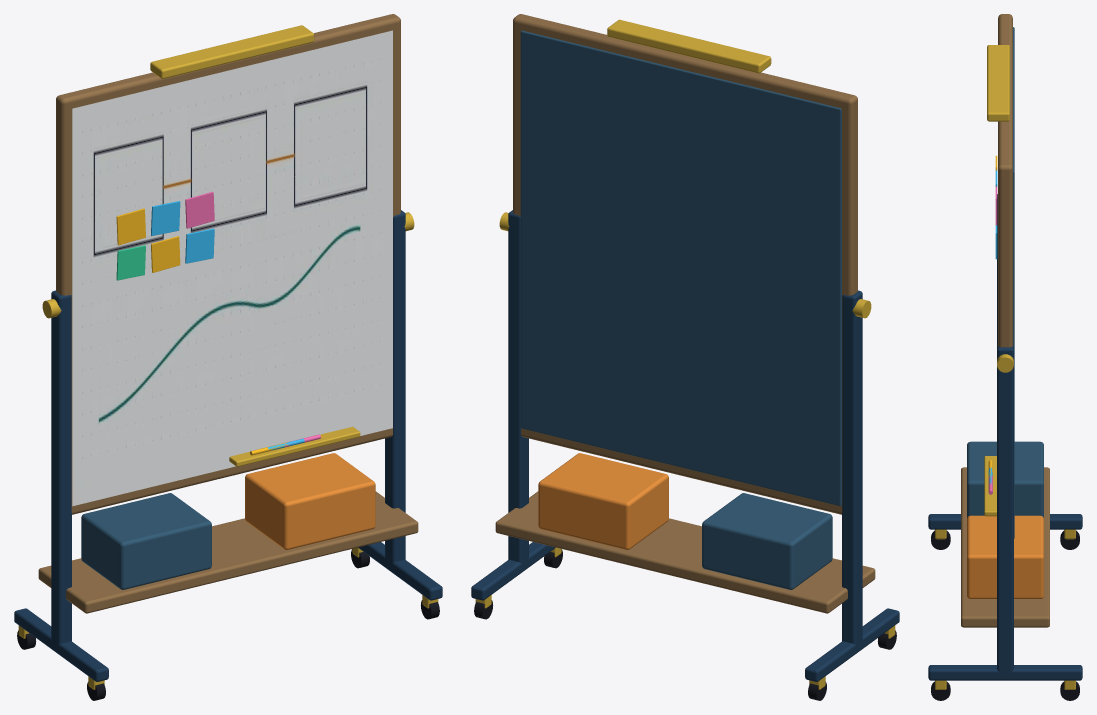
Rendered from campus-board-compact-coast.glb.
The picture shows the model from 3 angles, left to right: view 1: azimuth 30°, elevation 25°; view 2: azimuth 150°, elevation 25°; view 3: azimuth 270°, elevation 25°; orthographic projection. The views are drawn at different scales.
Bounding box in the file's own units: 1.11 × 1.72 × 0.44.
14 materials, 1 textured.
